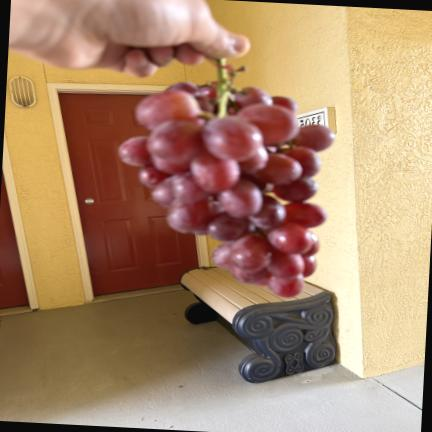grape_cluster: (119, 59, 335, 297)
